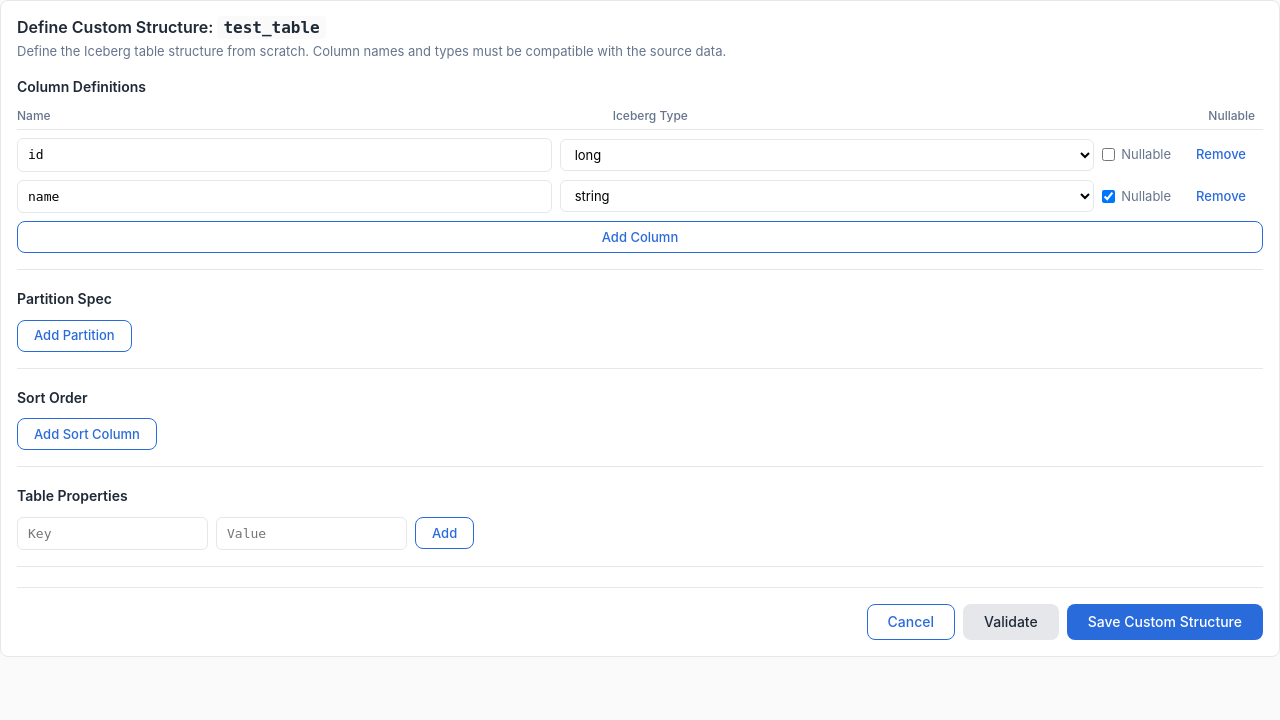
IcebergCustomStructureEditor › removes a column when Remove is clicked
This screenshot has width=1280, height=720.
Click the button with aria-label "Remove column" at {"x": 1221, "y": 196}, box [1179,180,1263,212]
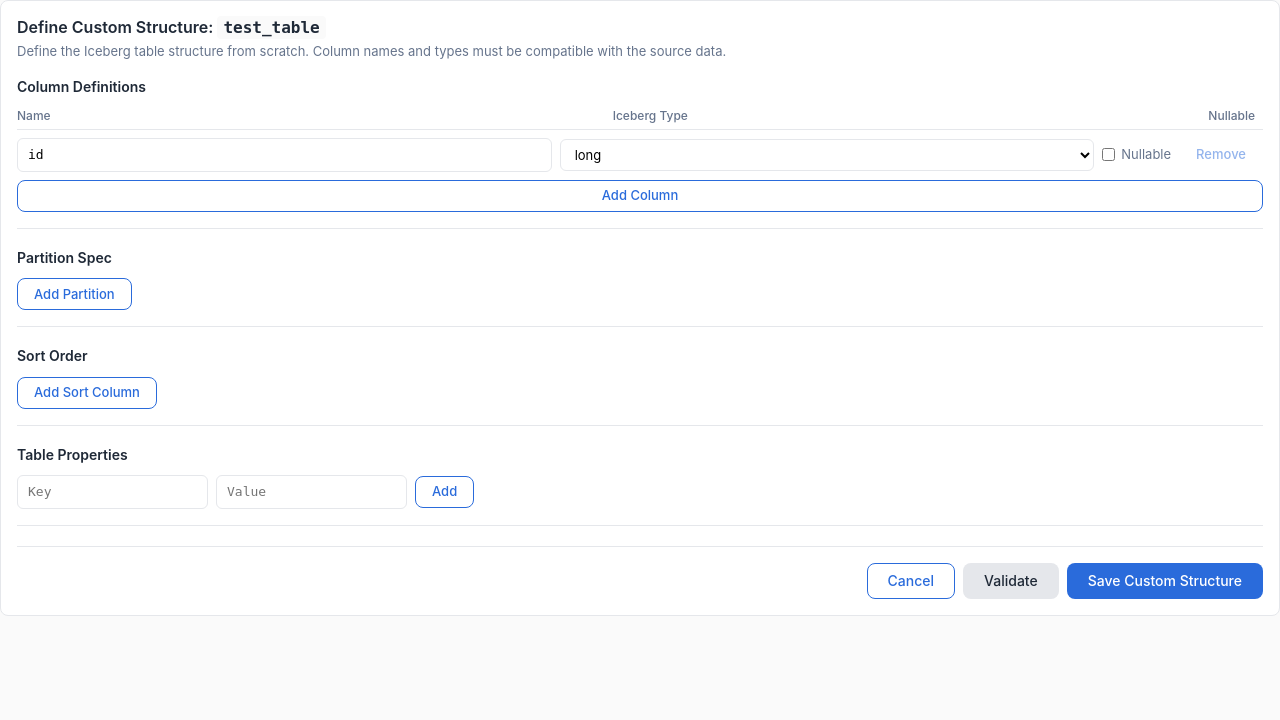
Expected: the field named "Column 1 name" holds "id", [17,138,552,172]
Expected: the number of fields named "Column 1 name" is 1, [17,138,552,172]
